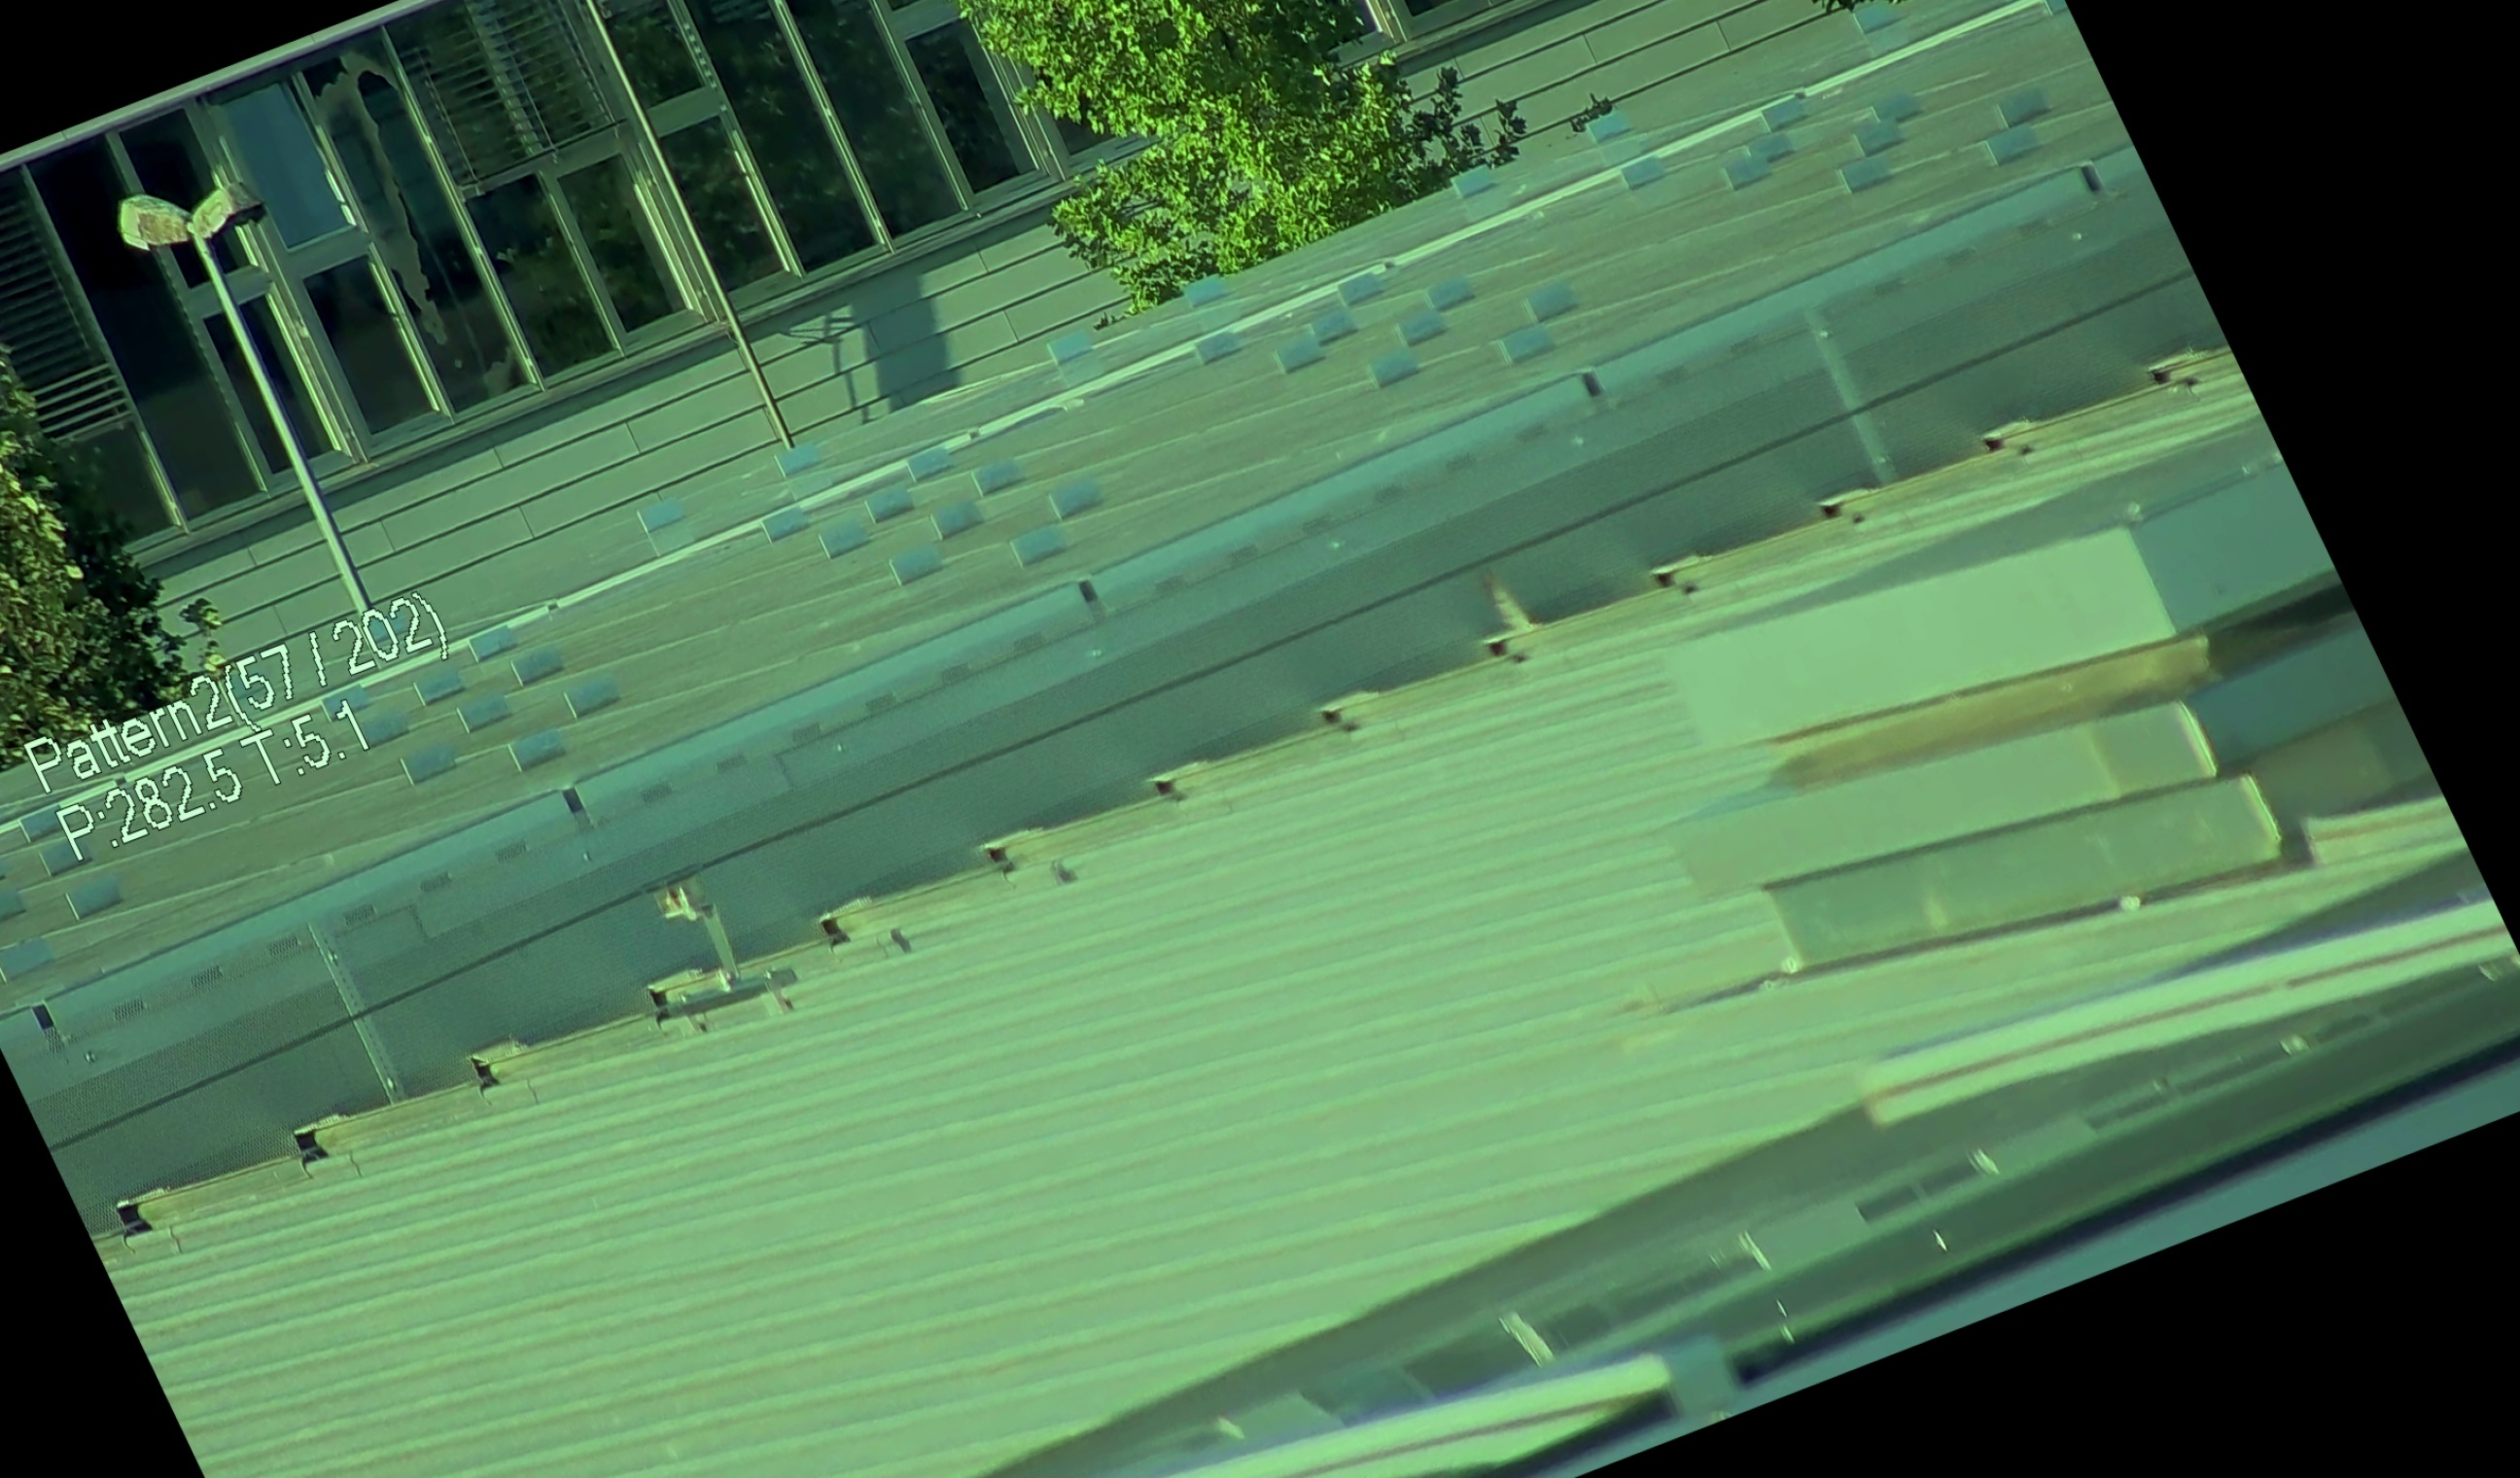Other: (1451, 544, 1569, 679)
